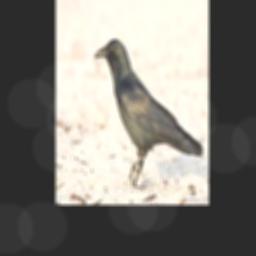Crow: (93, 37, 204, 187)
